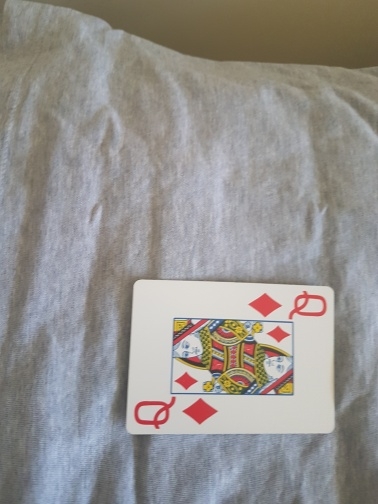queen: (125, 280, 337, 436)
